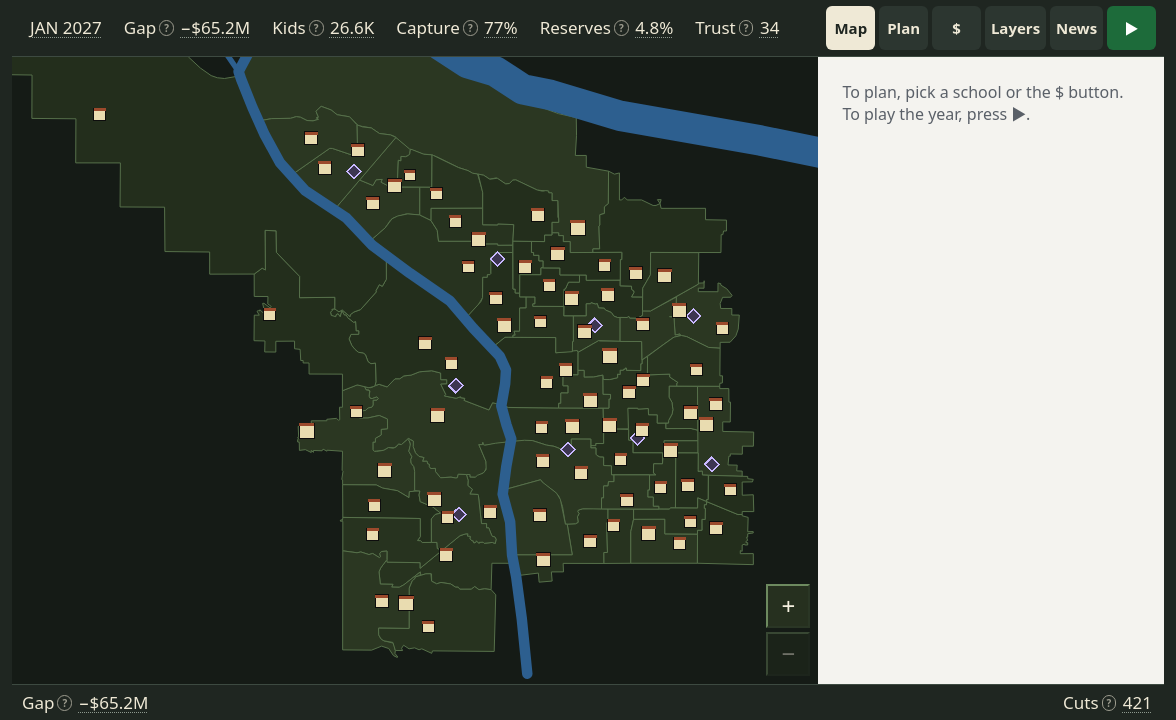
Test case: App › Zone mode › opens from Plan as the menu path
Click the button "Plan" at (904, 28), box [879,6,928,50]
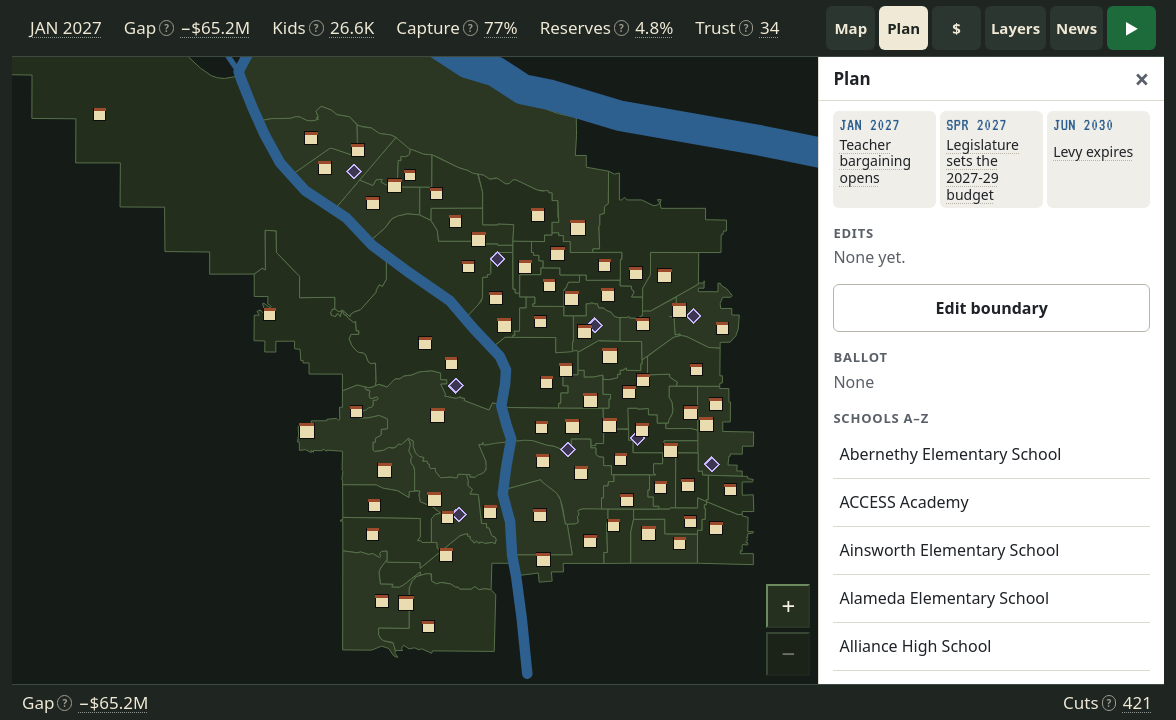
Click the button "Edit boundary" at (992, 308), box [833,284,1150,332]
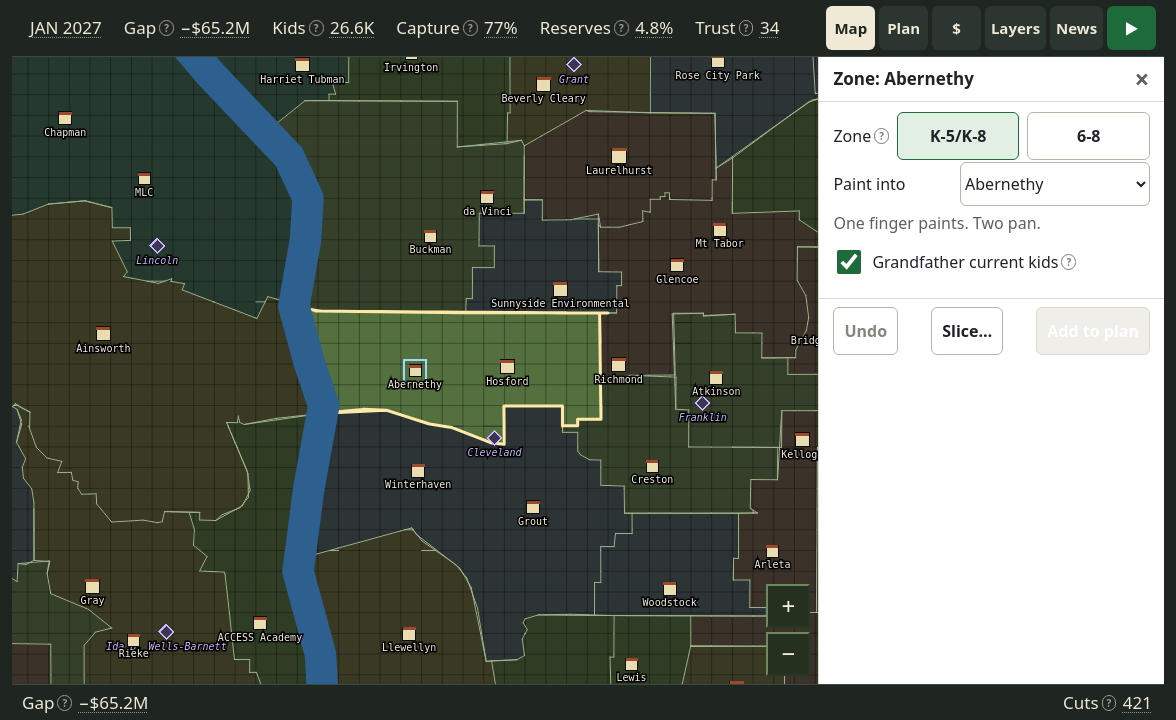
Check: the element "Zone:" is shown, box [818,57,1164,684]
